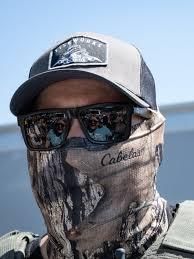cap: (3, 24, 163, 116)
scarf-kerchief: (23, 118, 167, 259)
sunglasses: (16, 102, 139, 146)
